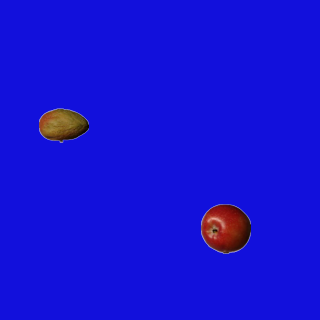Apple Braeburn: (200, 203, 250, 253)
Papaya: (38, 100, 88, 150)
